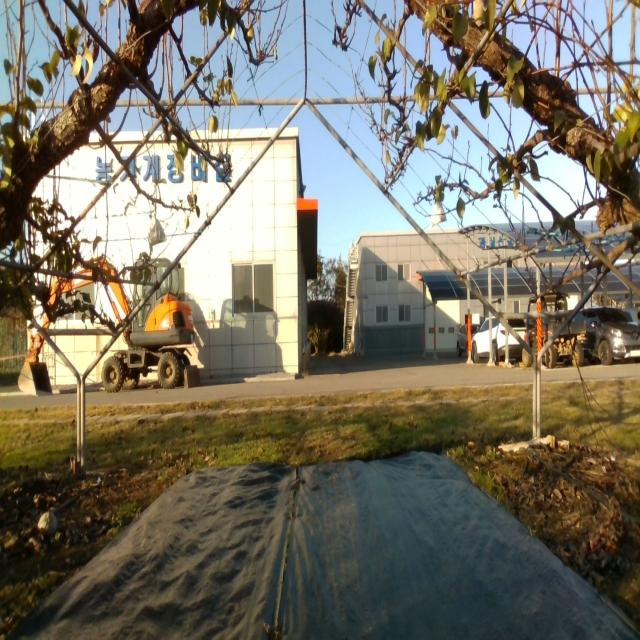pearbags: (146, 214, 166, 248), (430, 202, 446, 230)
